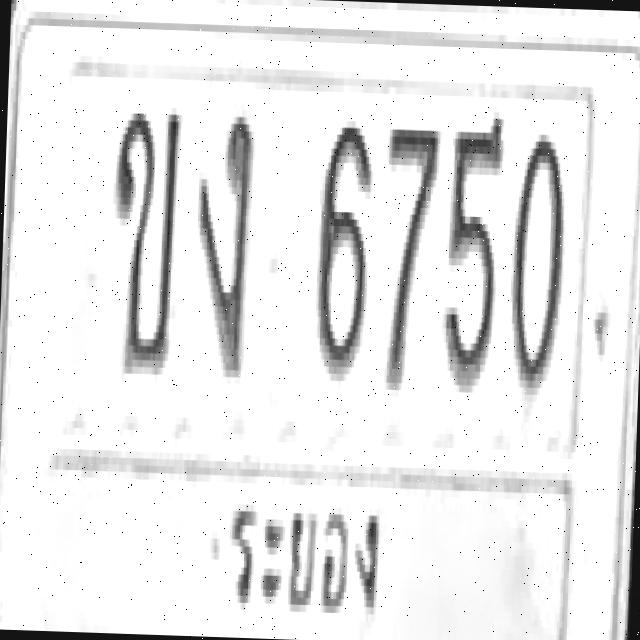0: (506, 126, 566, 395)
11KhorKhai: (106, 105, 181, 375)
16NgorNgu: (192, 108, 254, 377)
5: (441, 110, 504, 393)
6: (312, 115, 372, 378)
7: (378, 118, 441, 387)
Rayong: (218, 476, 390, 636)
